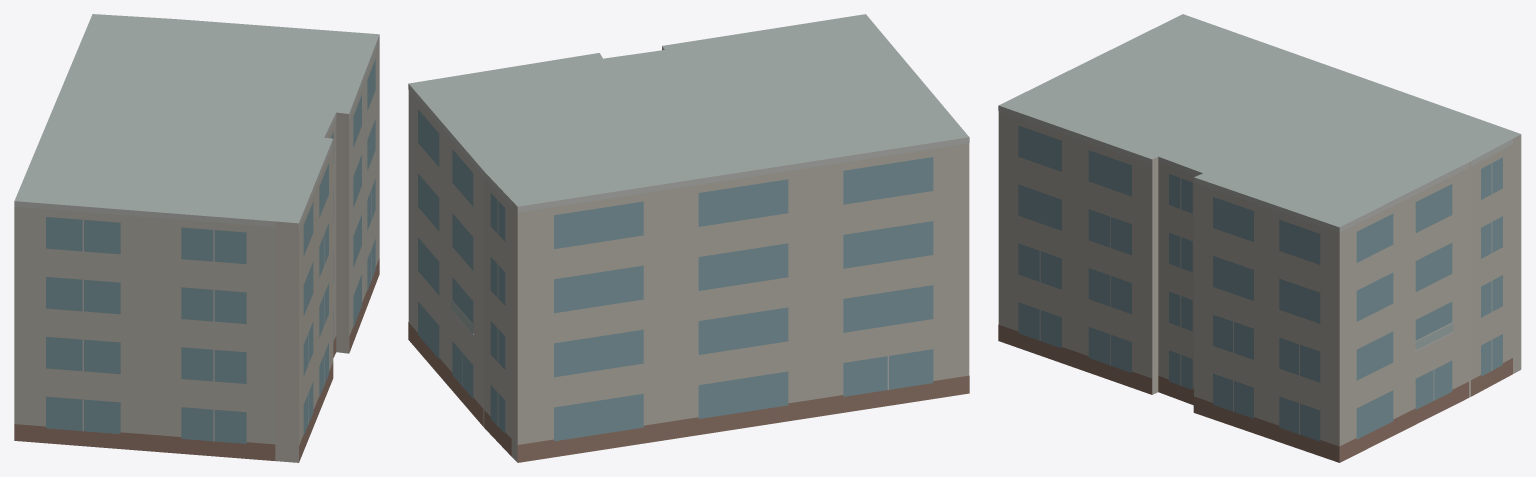
The model's file is survey-upis-32672865.glb.
3 views of the same model, side by side, from view 1: azimuth 30°, elevation 25°; view 2: azimuth 150°, elevation 25°; view 3: azimuth 270°, elevation 25° (orthographic). The views are drawn at different scales.
Parts seen in each view (by area): view 1: survey-upis-32672865.tmp; view 2: survey-upis-32672865.tmp; view 3: survey-upis-32672865.tmp.
Part boxes in pixels (<box>): survey-upis-32672865.tmp: <box>14,14,379,462</box>; survey-upis-32672865.tmp: <box>408,14,969,462</box>; survey-upis-32672865.tmp: <box>998,14,1521,462</box>.
Size of the model in its own units: 20.41 by 10.5 by 21.14.
